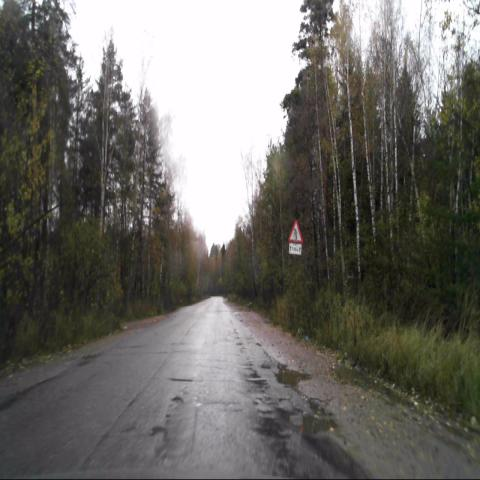1_11_1: (288, 220, 303, 244)
